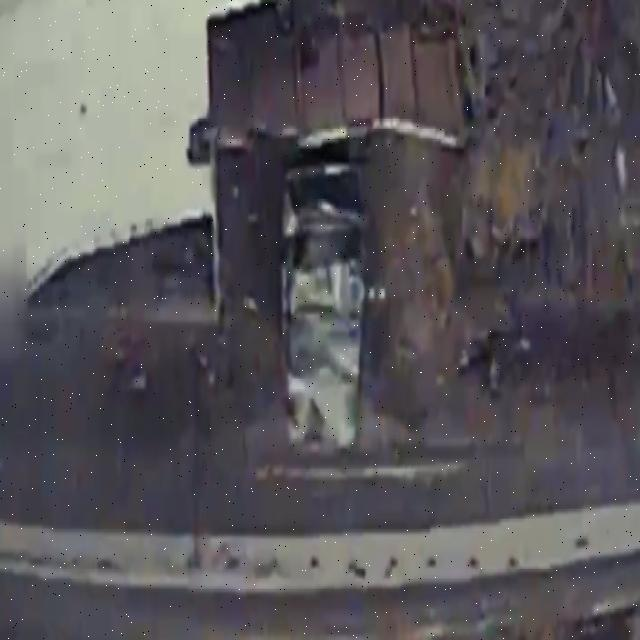CAR: (278, 154, 372, 458)
